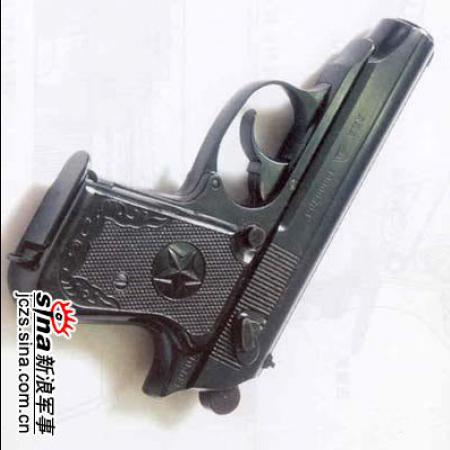Pistol: (9, 14, 435, 414)
